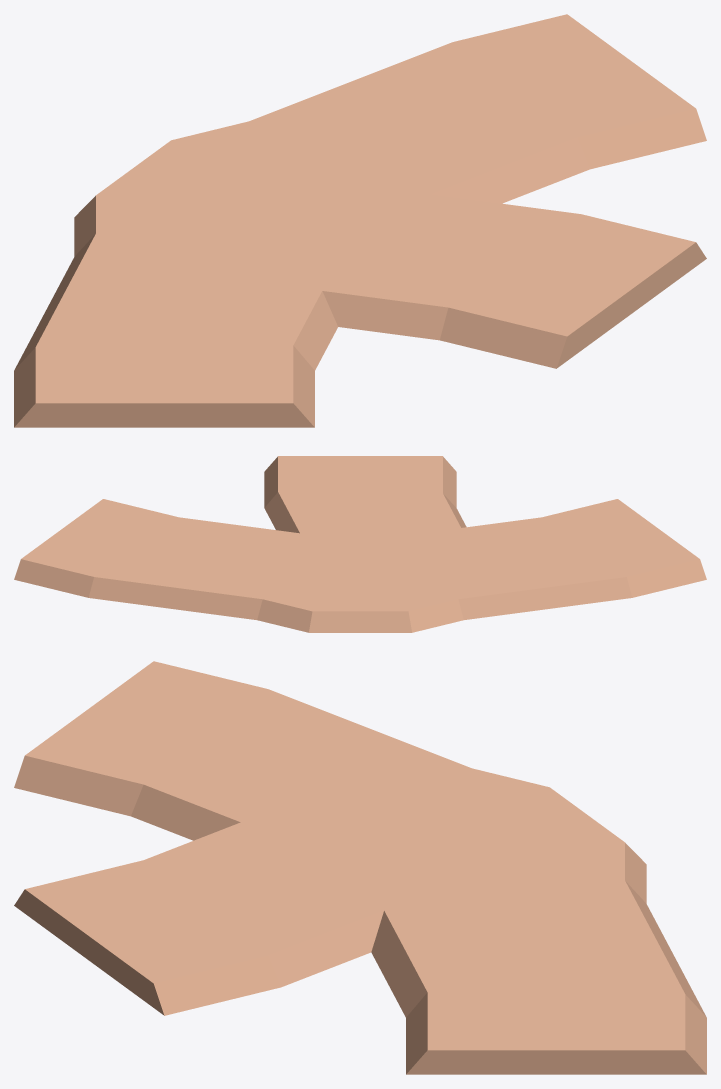
The model's file is path_intersectionA.glb.
3 views of the same model, one above another, from view 1: azimuth 30°, elevation 25°; view 2: azimuth 150°, elevation 25°; view 3: azimuth 270°, elevation 25° (orthographic). The views are drawn at different scales.
Visible parts, largest first — view 1: path_intersectionA; view 2: path_intersectionA; view 3: path_intersectionA.
Part boxes in pixels (x1,y1,x2,y2): path_intersectionA: (14,14,706,427); path_intersectionA: (14,456,706,632); path_intersectionA: (14,661,706,1074).
Size of the model in its own units: 0.8708 by 0.025 by 0.6423.
